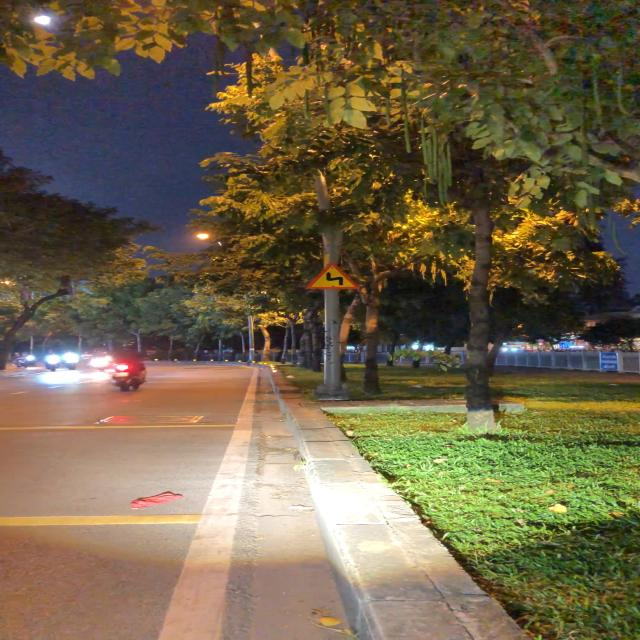Bien bao nhieu cho ngoat nguy hiem lien tiep: (302, 261, 365, 291)
